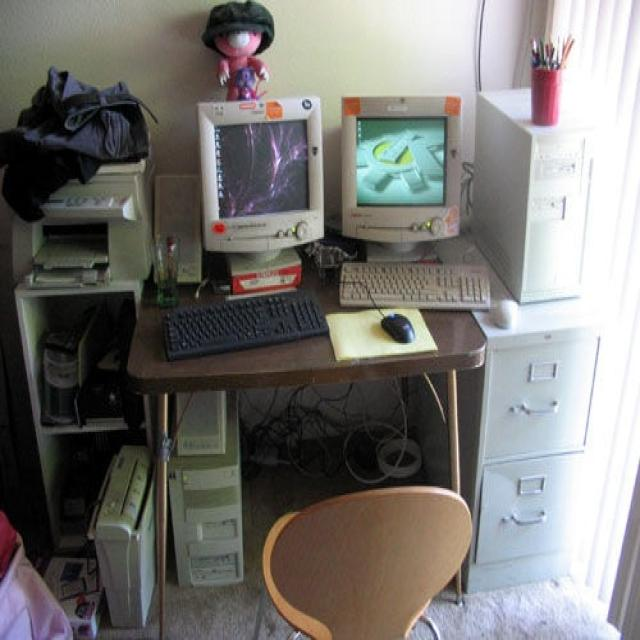chair: (260, 483, 472, 638)
tvmonitor: (196, 94, 326, 275), (339, 94, 461, 264)
